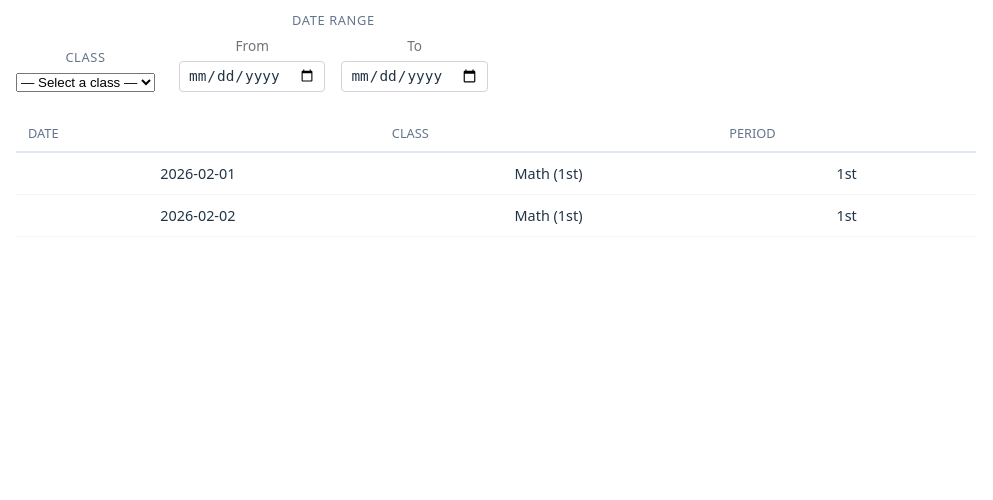
Test: AttendanceHistoryView — interaction › shows detail panel after clicking a row and currentSession is populated
The width and height of the screenshot is (993, 500).
Click the row "2026-02-01 Math (1st) 1st".
click(496, 173)  # box [16,152,976,195]
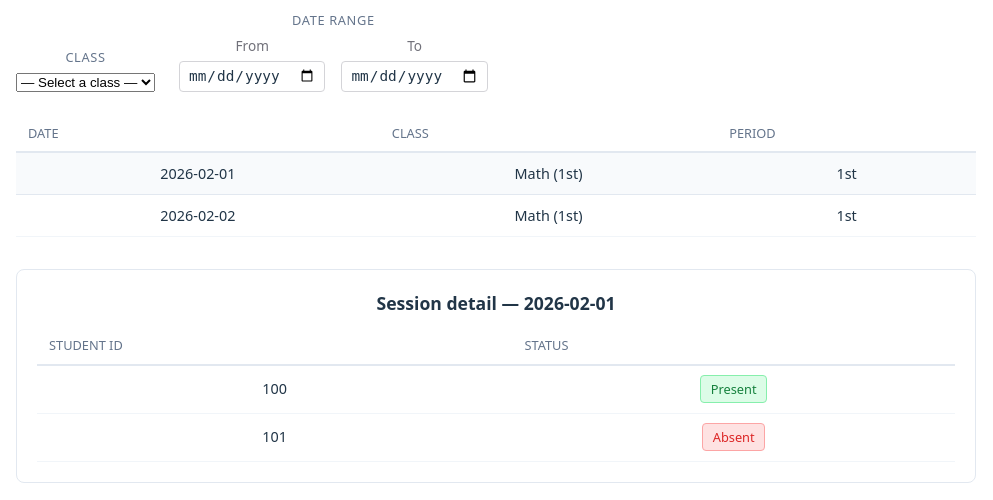
expect the element with class "detail-panel" is shown: met, box [16,269,976,483]
